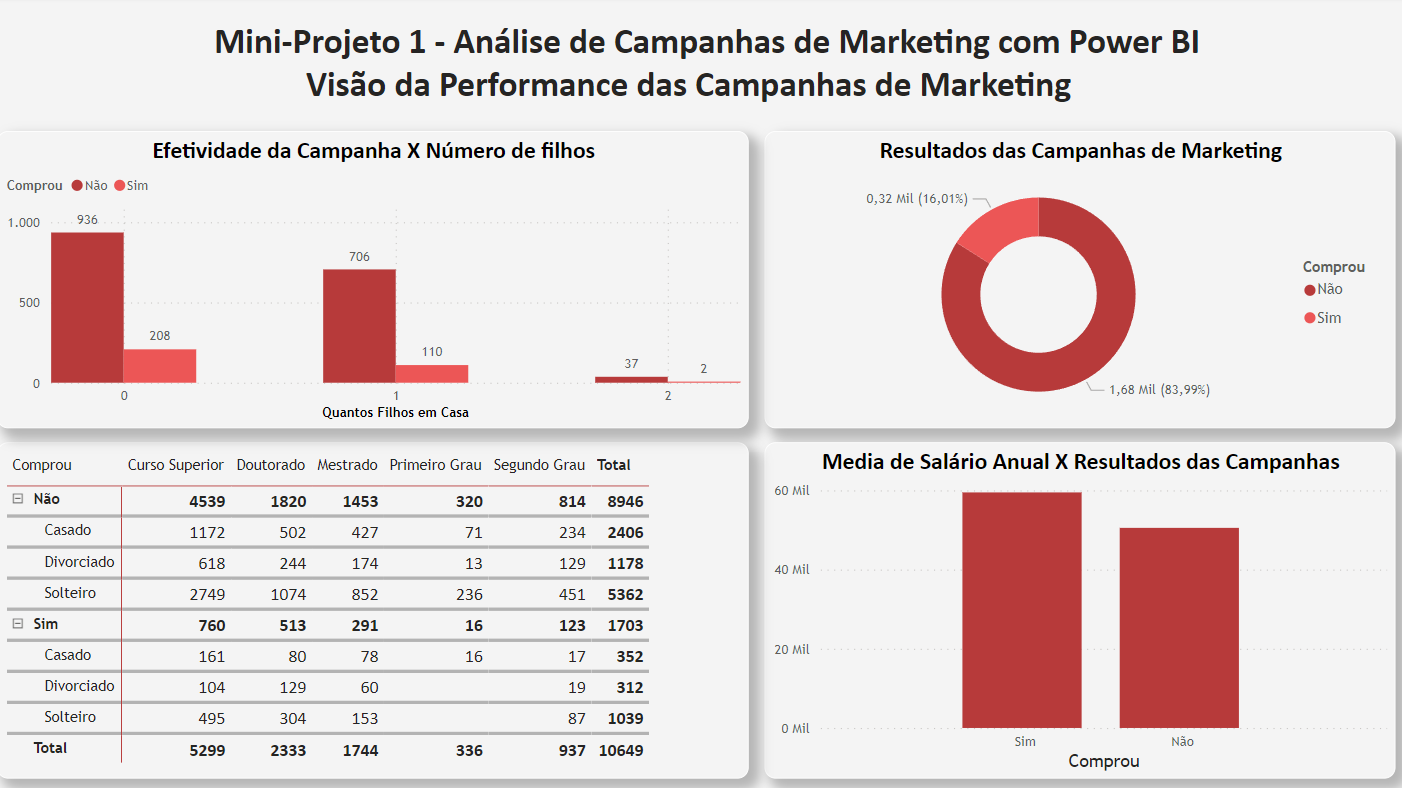

This screenshot's page, from the dashboard's own definition file:
{"tool":"powerbi","page":{"name":"Performance das Campanhas","canvas":[1280,720],"ordinal":2},"visuals":[{"type":"clusteredColumnChart","title":"Efetividade da Campanha X Número de Filhos","fields":{"Y":["CountNonNull(superstore_data.Response)"],"Category":["superstore_data.FilhosEmCasa"],"Series":["superstore_data.Response"]},"box":[8.4,127.8,628.3,291.9],"z":0},{"type":"donutChart","title":"Resultado da Campanha de Marketing","fields":{"Category":["superstore_data.Response"],"Y":["CountNonNull(superstore_data.Id)"]},"box":[644,127.8,627.1,291.9],"z":1000},{"type":"pivotTable","fields":{"Rows":["superstore_data.Response","superstore_data.Marital_Status"],"Columns":["superstore_data.Education"],"Values":["Sum(superstore_data.Recency)"]},"box":[8.4,425.7,628.3,288.2],"z":2000},{"type":"columnChart","title":"Media de Salário Anual X Resultado das Campanhas","fields":{"Category":["superstore_data.Response"],"Y":["Avg(superstore_data.Income)"]},"box":[644,425.7,627.1,288.2],"z":3000},{"type":"textbox","box":[3.6,0,1272.4,120.6],"z":4000}]}

Visuals, with their boxes in screenshot pixels (x1, y1, x2, y2), scaled from the page's 1280x720 canvas onto the 1402x788 screenshot:
"Efetividade da Campanha X Número de Filhos" clusteredColumnChart: locate(9, 140, 697, 459)
"Resultado da Campanha de Marketing" donutChart: locate(705, 140, 1392, 459)
pivotTable - superstore_data.Response x superstore_data.Marital_Status: locate(9, 466, 697, 781)
"Media de Salário Anual X Resultado das Campanhas" columnChart: locate(705, 466, 1392, 781)
textbox: locate(4, 0, 1398, 132)
